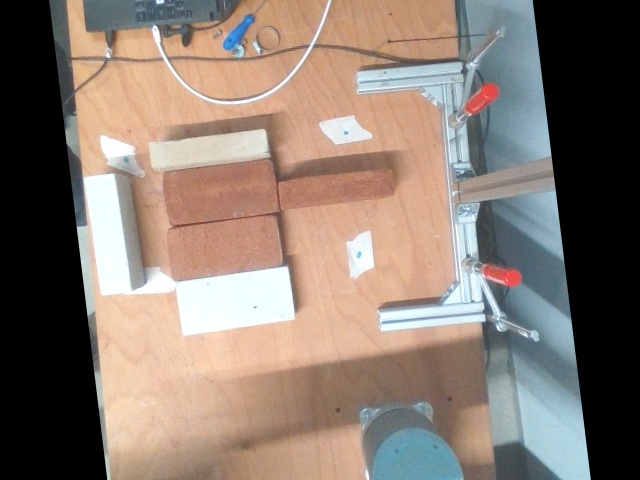brick: (173, 265, 294, 334), (164, 158, 277, 223), (167, 216, 279, 279)
brick-side: (85, 173, 130, 293), (148, 127, 266, 165), (277, 168, 390, 207)
